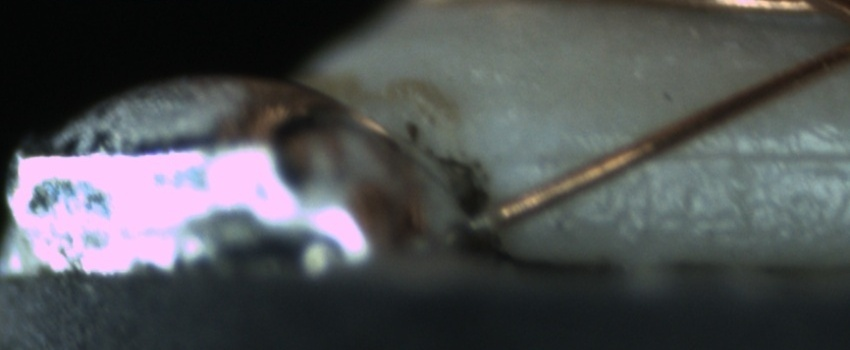DL: (527, 125, 850, 186)
